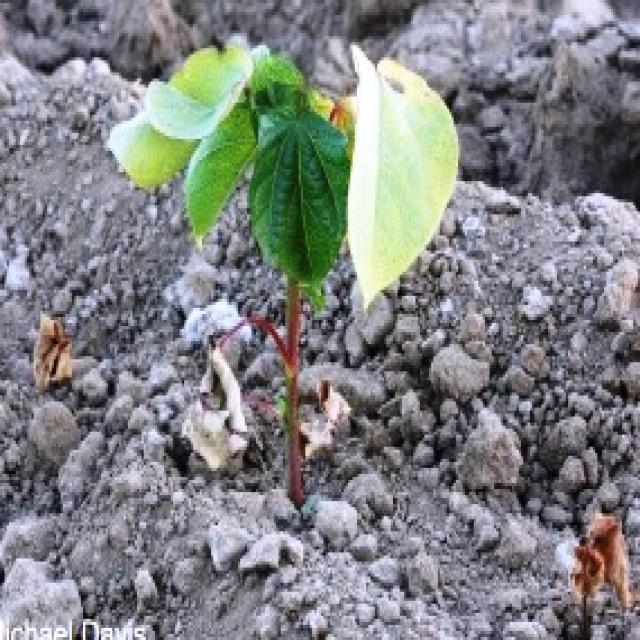Fusarium Wilt: (105, 23, 481, 529)
